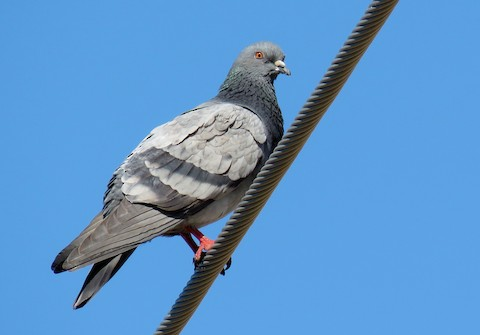pigeon: (52, 38, 293, 312)
